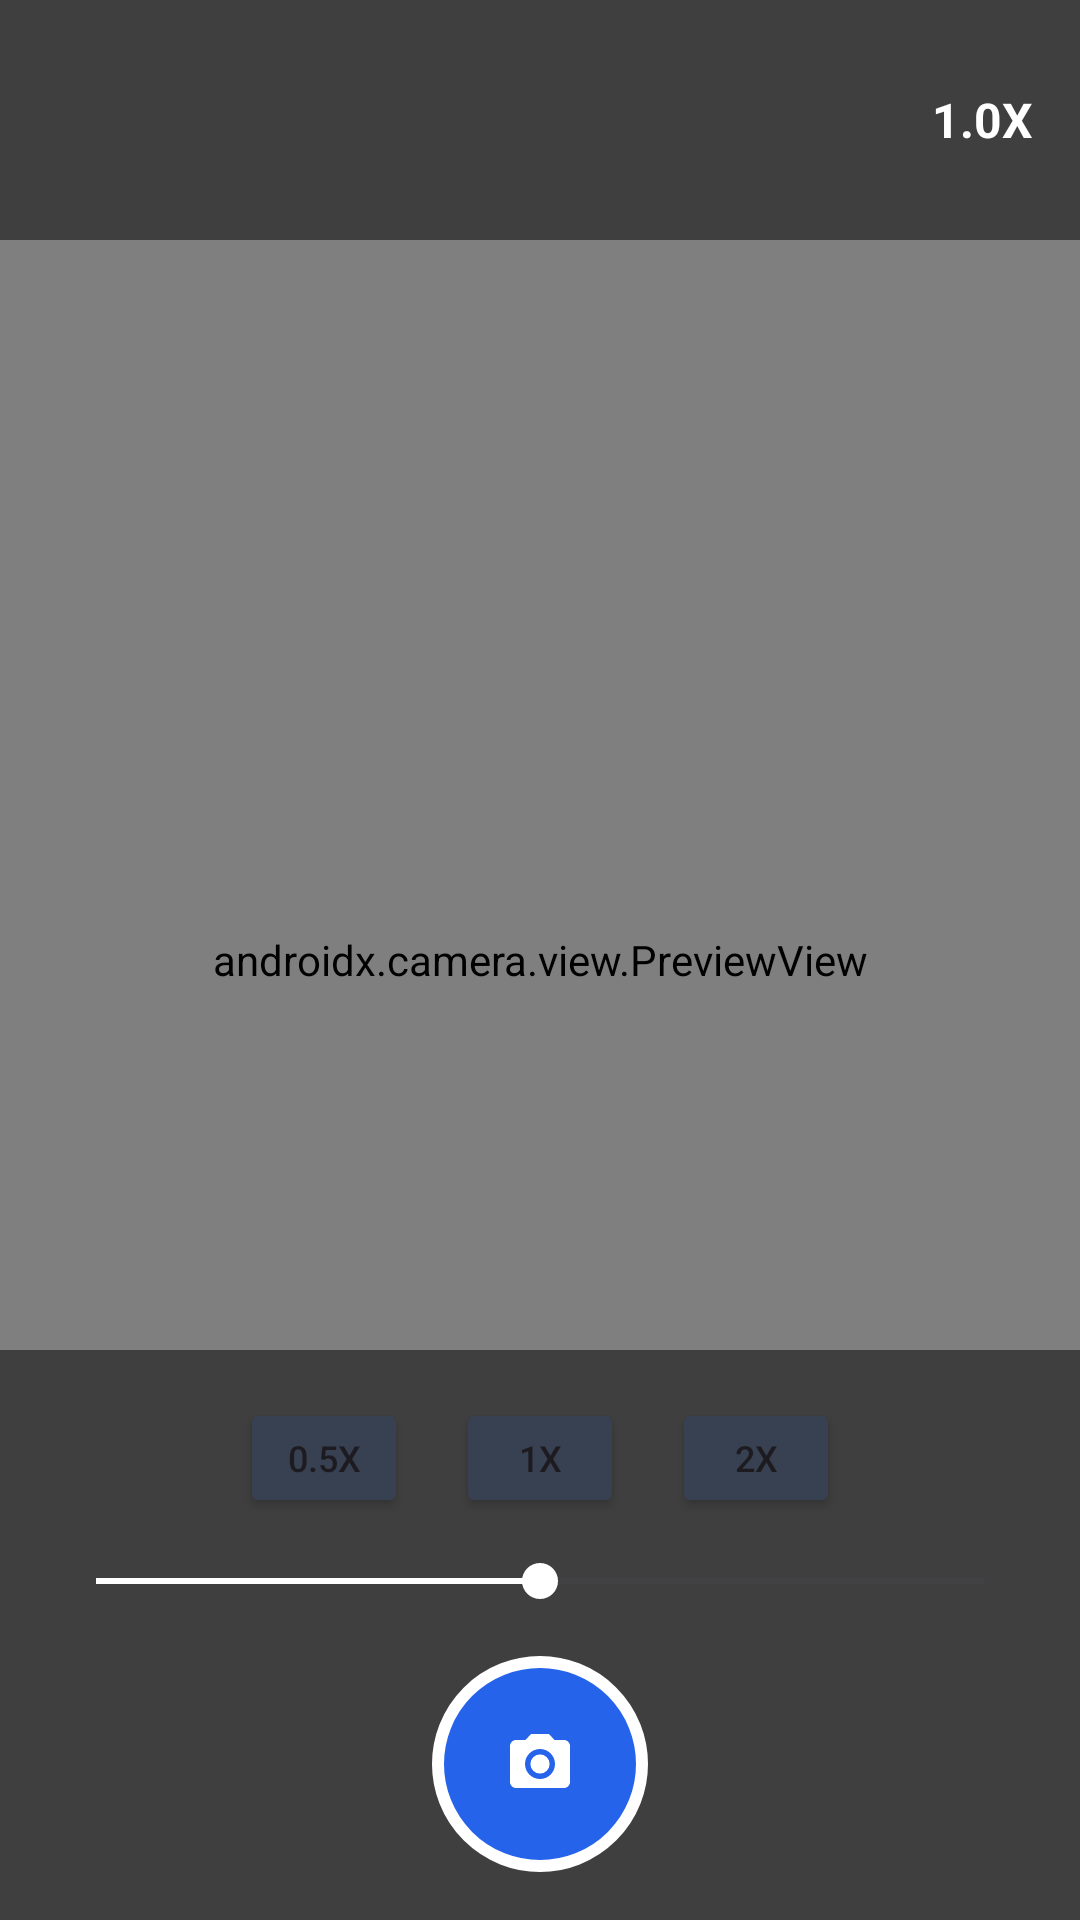

Screen size 1080 × 1920. Icon name, then its box in pixels as (x1,y1,x2,y2):
拍照: (432,1656,648,1872)
